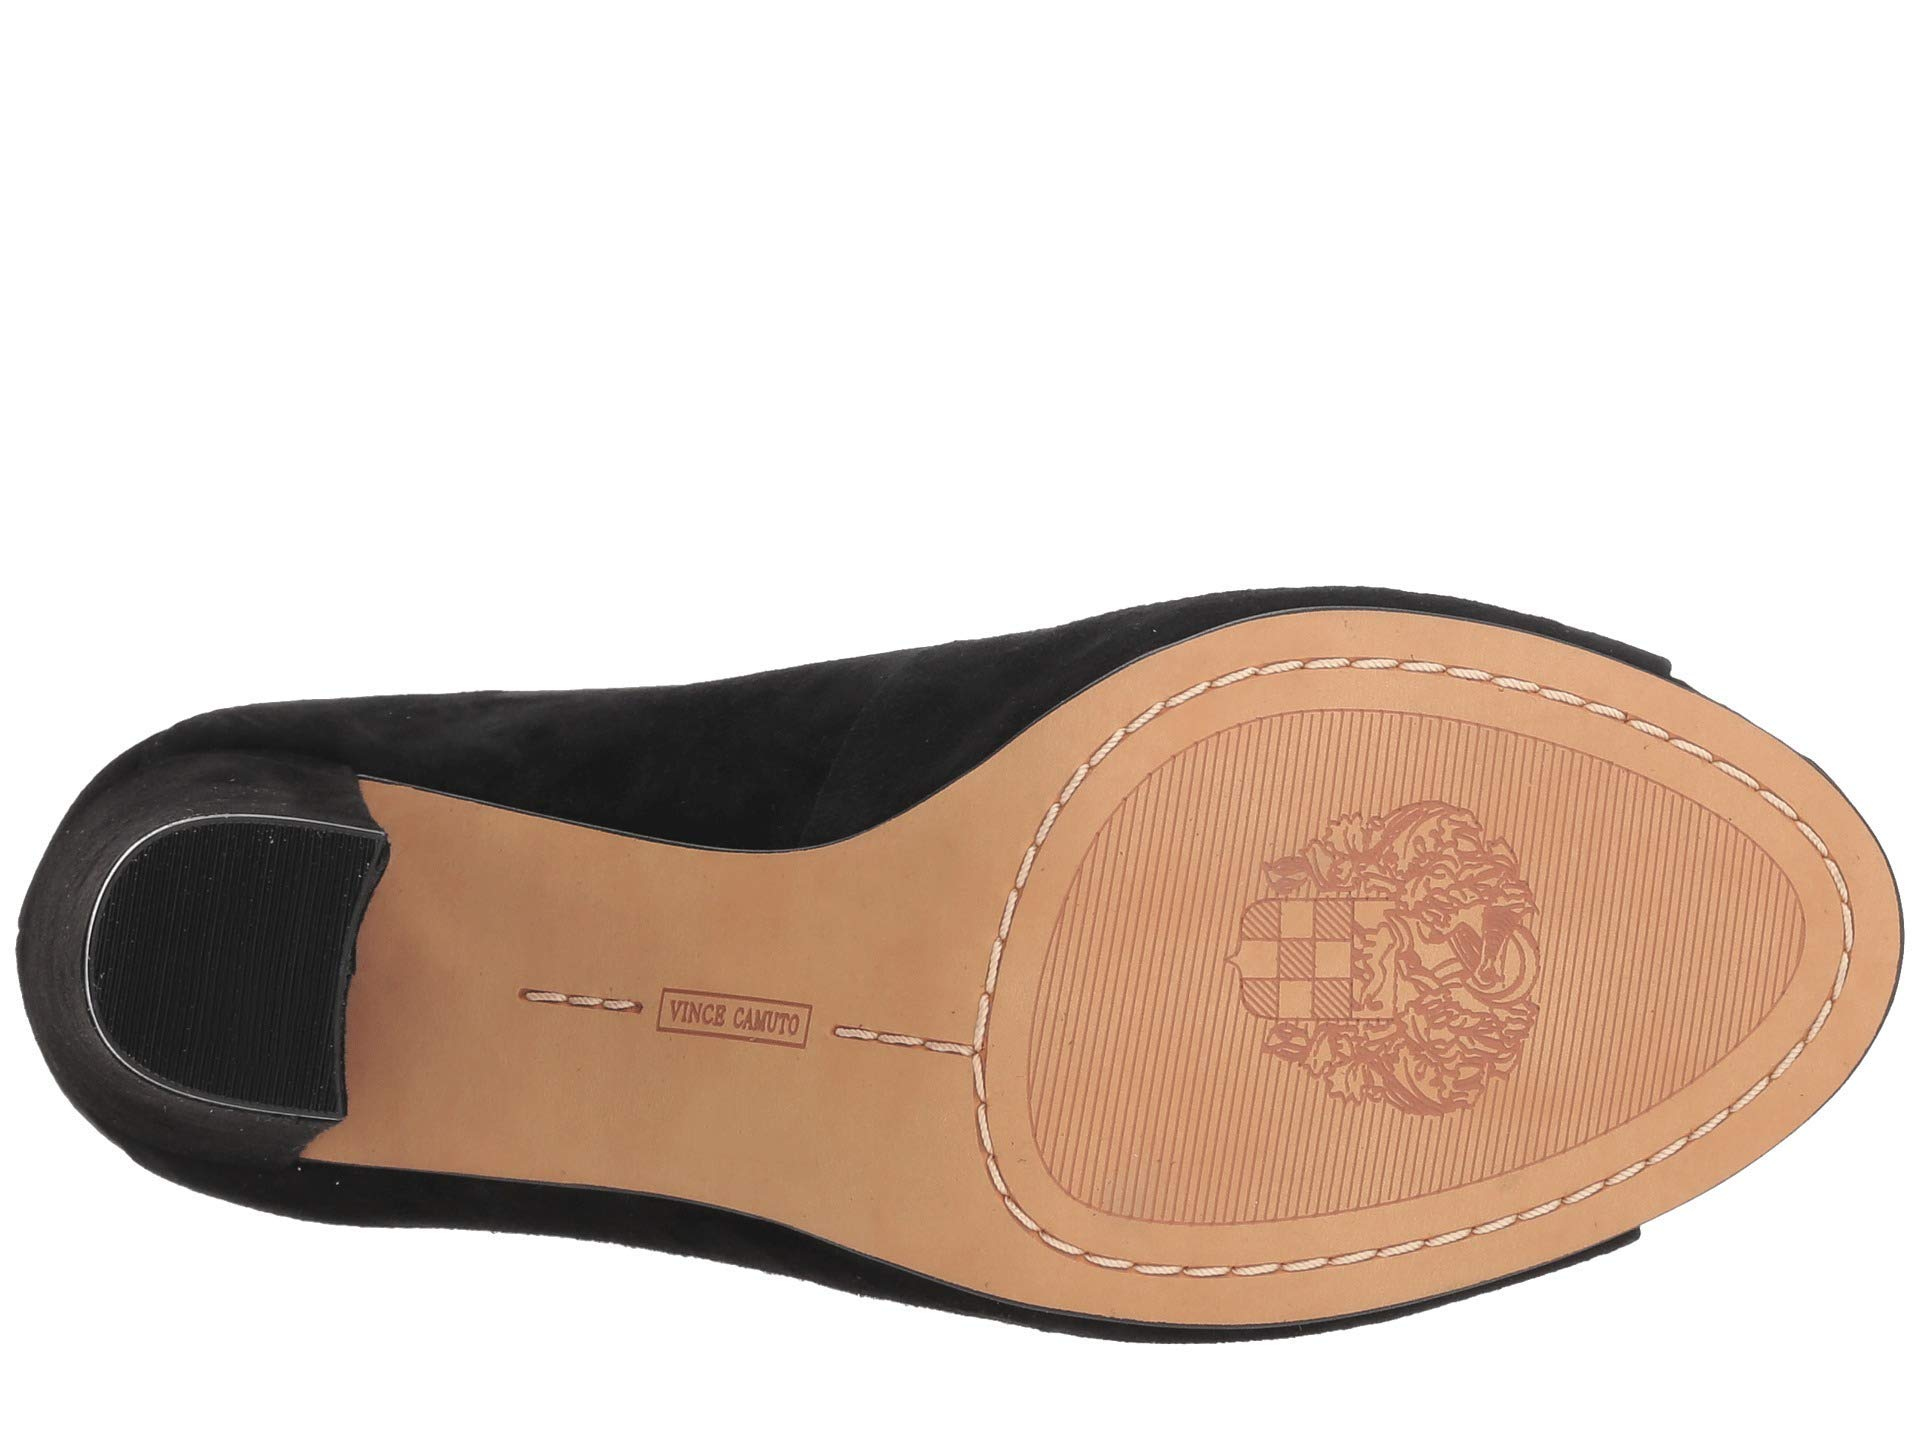line: (1545, 827, 1775, 1023), (1070, 908, 1203, 1193), (1240, 892, 1355, 1023), (1138, 776, 1259, 883)
quad: (1240, 892, 1355, 1023)
